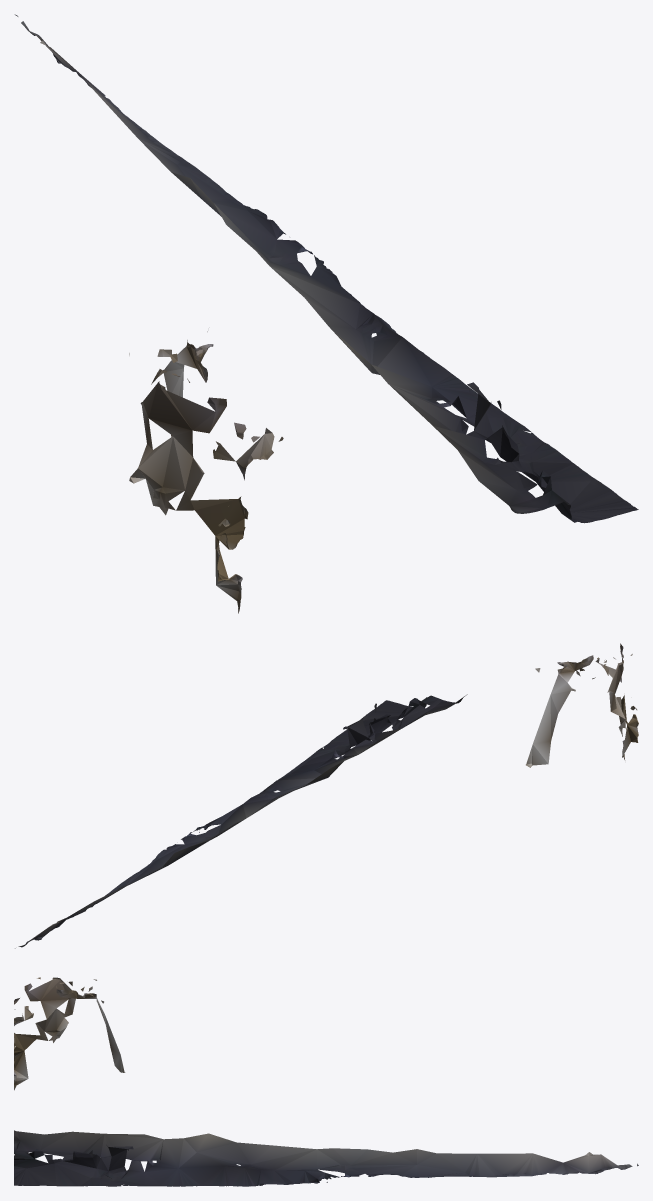
File: coarse.glb
3 renders of one model, top to bottom at view 1: azimuth 30°, elevation 25°; view 2: azimuth 150°, elevation 25°; view 3: azimuth 270°, elevation 25°, orthographic. The views are drawn at different scales.
Size of the model in its own units: 1.17 by 0.5097 by 2.76.
